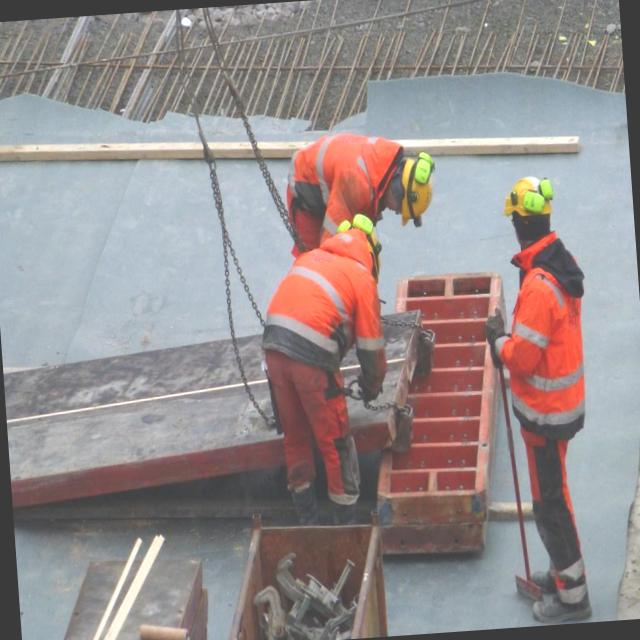vest: (494, 251, 604, 486), (257, 227, 380, 351)
